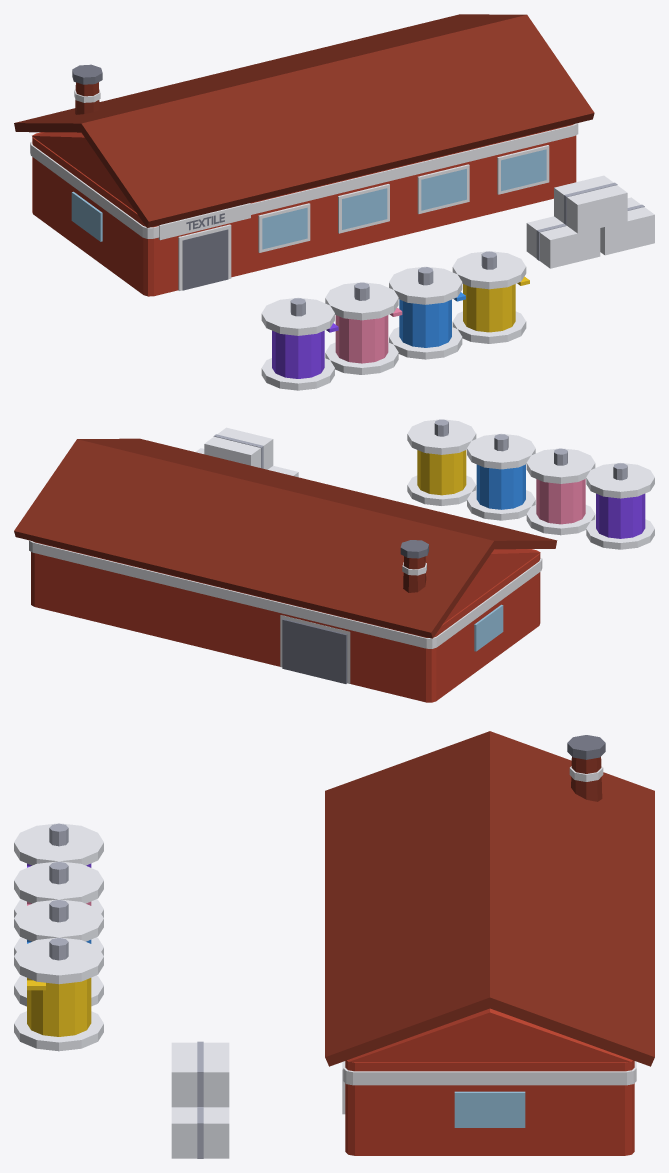
File: textile-mill-2x2-t4-tone-a.glb
The picture shows the model from 3 angles, top to bottom: view 1: azimuth 30°, elevation 25°; view 2: azimuth 150°, elevation 25°; view 3: azimuth 270°, elevation 25°; orthographic projection. The views are drawn at different scales.
Parts seen in each view (by area): view 1: textile-mill-2x2-t4-tone-a; view 2: textile-mill-2x2-t4-tone-a; view 3: textile-mill-2x2-t4-tone-a.
Boxes of the visible parts, left/top/right/bottom form: textile-mill-2x2-t4-tone-a: left=14, top=14, right=654, bottom=390; textile-mill-2x2-t4-tone-a: left=14, top=419, right=654, bottom=702; textile-mill-2x2-t4-tone-a: left=14, top=731, right=654, bottom=1158.
Bounding box in the file's own units: 1.96 × 0.61 × 1.99.
1 material, 1 textured.
